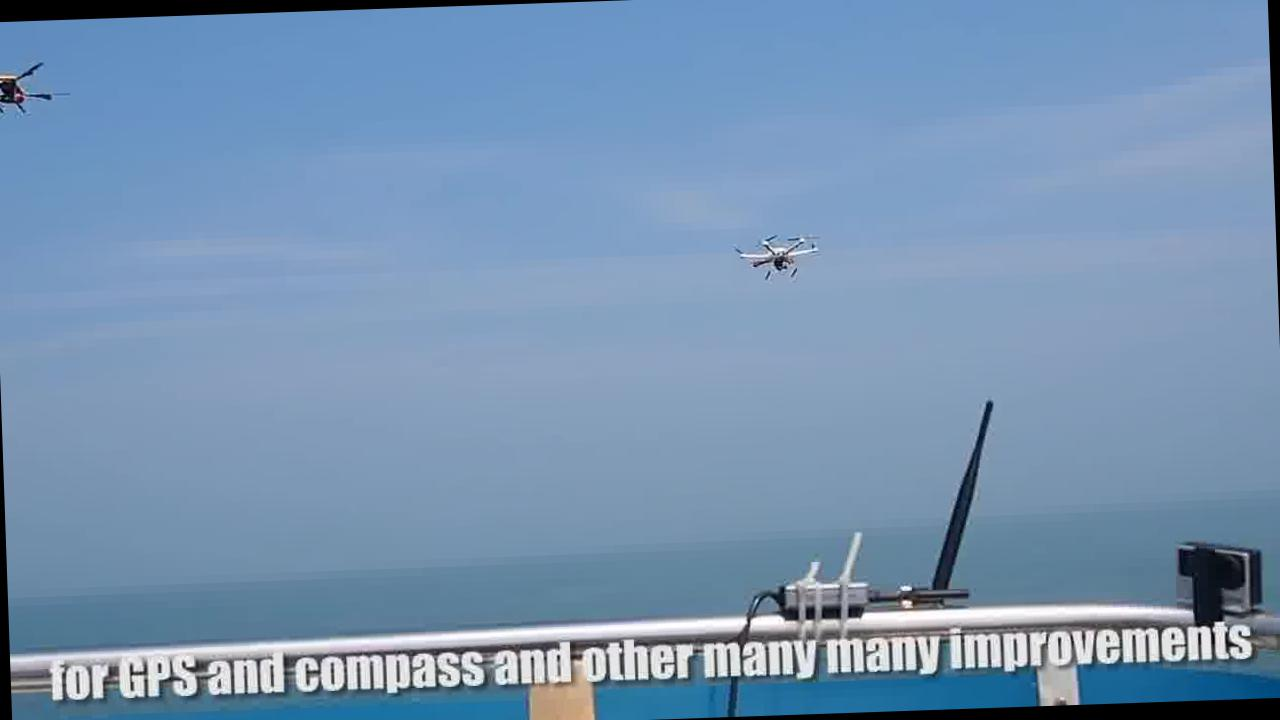drone: (736, 228, 820, 284), (0, 51, 60, 119)
